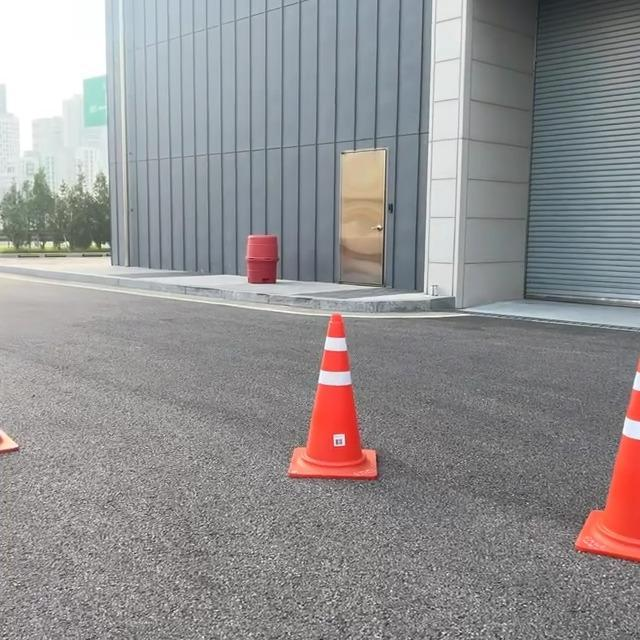fallen_object: (511, 313, 640, 570), (269, 297, 396, 496)
